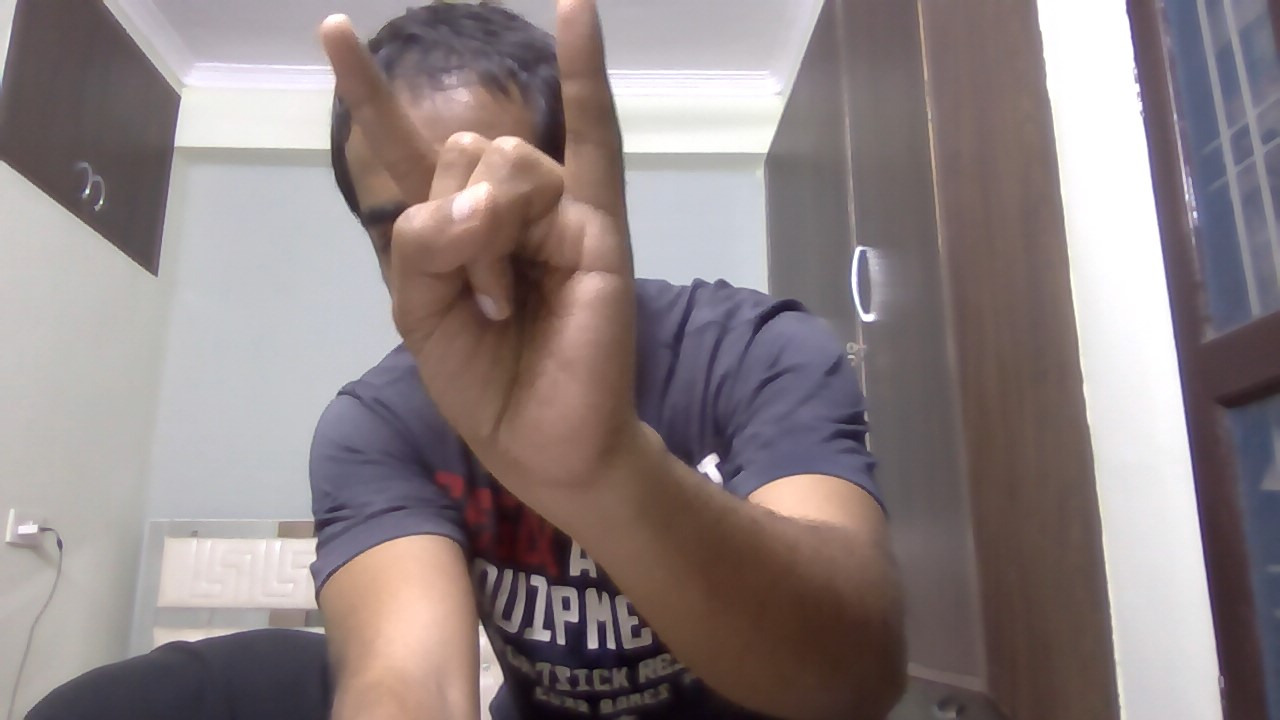Select All: (313, 6, 678, 489)
